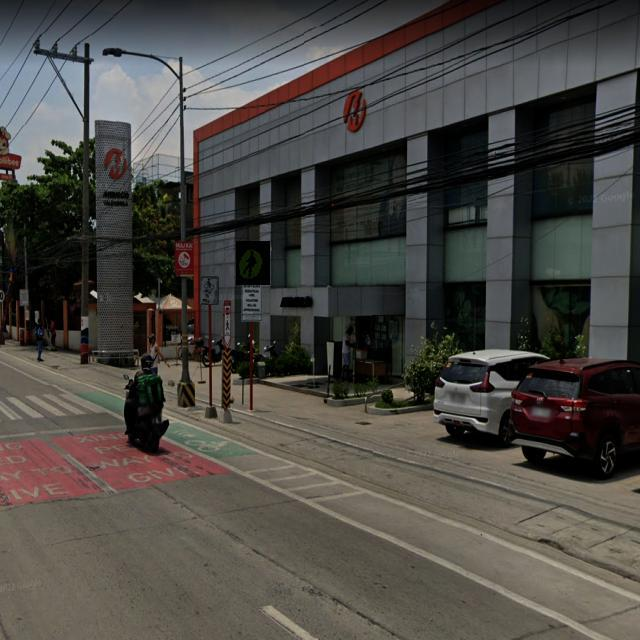bike lane: (201, 276, 219, 305)
pedestrian crossing: (236, 241, 270, 285)
